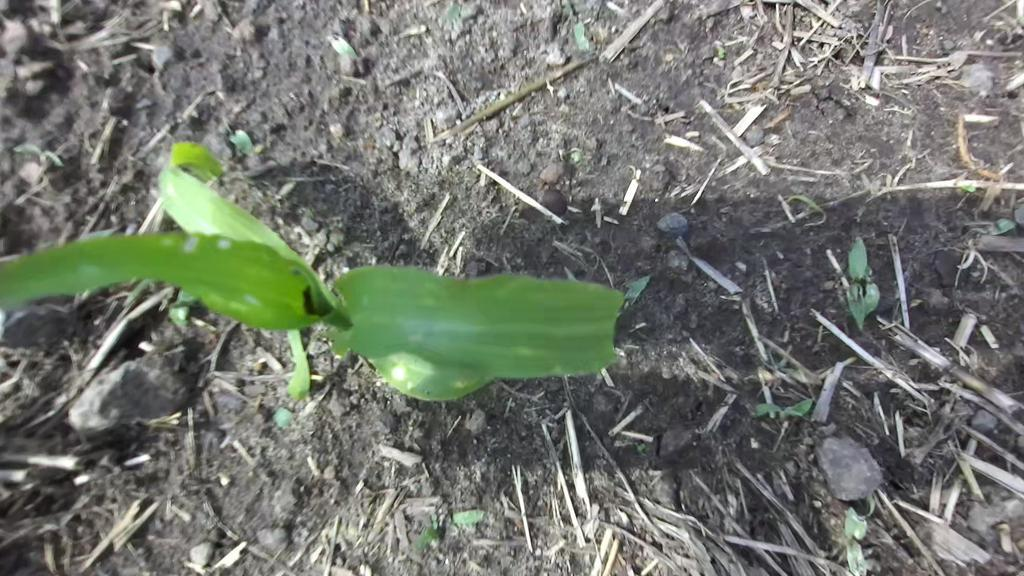BroWeed: (843, 235, 869, 330), (784, 184, 830, 235), (830, 525, 873, 576), (10, 139, 67, 175), (840, 491, 878, 543), (320, 17, 358, 64), (165, 288, 199, 329), (754, 399, 813, 422), (618, 268, 655, 304), (969, 215, 1017, 242), (225, 124, 262, 159), (135, 325, 177, 355), (253, 343, 286, 376), (411, 521, 444, 553), (862, 264, 879, 316), (568, 20, 593, 55), (269, 403, 296, 431), (859, 546, 884, 576), (758, 355, 795, 374), (451, 507, 487, 526), (274, 176, 299, 203), (760, 368, 797, 385), (208, 468, 233, 490), (295, 203, 317, 220), (662, 44, 681, 61), (567, 147, 583, 167), (251, 139, 268, 155), (960, 182, 977, 195), (715, 43, 727, 60), (430, 511, 438, 530), (252, 362, 262, 376), (909, 298, 923, 307), (637, 441, 647, 452)
Maize: (0, 96, 644, 499)
